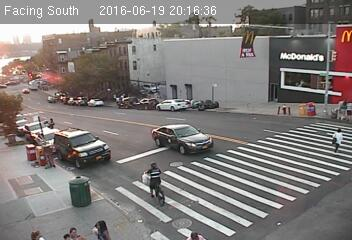neg: (138, 154, 181, 211), (186, 142, 201, 163)
pos: (326, 125, 349, 156)
